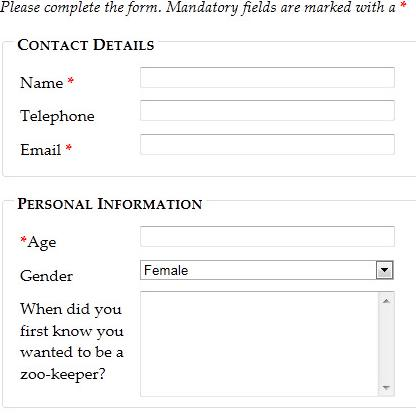field: (135, 289, 398, 400), (136, 131, 398, 158), (134, 97, 397, 123), (135, 224, 395, 250), (135, 64, 395, 88), (139, 259, 395, 280)
field_with_label: (19, 288, 400, 405), (20, 129, 401, 160), (21, 222, 398, 252), (20, 62, 397, 90), (22, 96, 398, 124), (17, 256, 399, 283)
